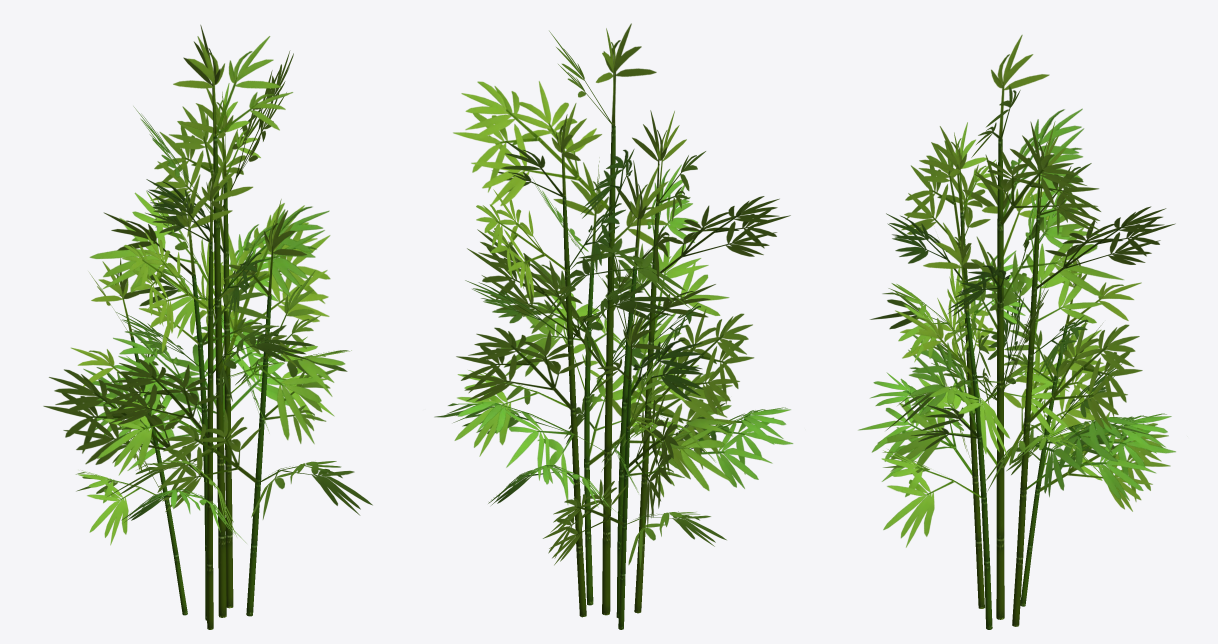
Rendered from bamboo.glb.
The picture shows the model from 3 angles, left to right: view 1: azimuth 30°, elevation 25°; view 2: azimuth 150°, elevation 25°; view 3: azimuth 270°, elevation 25°; orthographic projection. The views are drawn at different scales.
Visible parts, largest first — view 1: Object_2; view 2: Object_2; view 3: Object_2.
Boxes of the visible parts, x1=… form: Object_2: x1=43, y1=25, x2=372, y2=629; Object_2: x1=434, y1=23, x2=793, y2=629; Object_2: x1=858, y1=35, x2=1175, y2=629.
Size of the model in its own units: 1.78 by 3.23 by 1.8.
Materials: 1 (1 with a texture image).
